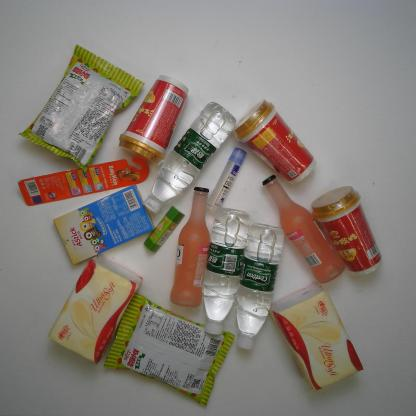Alcohol: (262, 174, 346, 284), (166, 186, 212, 308)
Dessert: (52, 183, 155, 264)
Drink: (144, 101, 238, 213), (234, 223, 288, 352), (200, 207, 252, 337)
Instant Drink: (234, 99, 316, 184), (311, 184, 382, 278), (119, 73, 190, 165)
Personal Hygiene: (17, 153, 150, 205)
Puffed Food: (18, 43, 146, 176), (102, 291, 237, 407)
Stationery: (208, 147, 248, 210), (143, 206, 185, 252)
Tissue: (46, 255, 144, 365), (268, 280, 363, 391)
